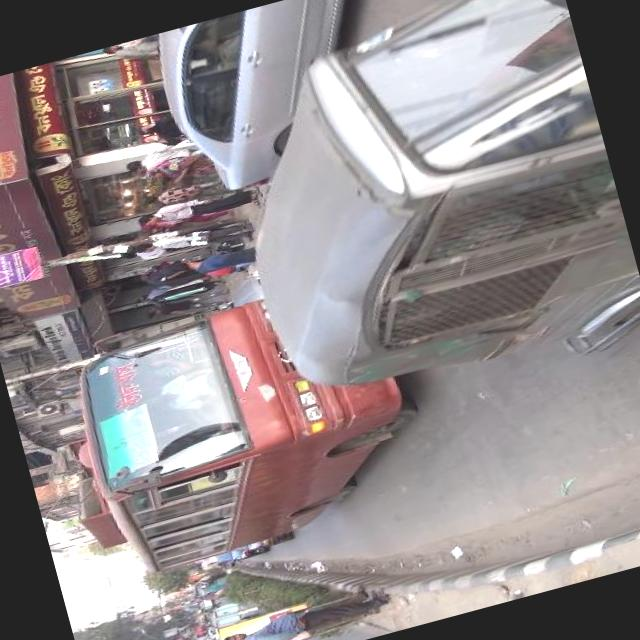bus: (30, 297, 328, 589)
car: (140, 0, 381, 210)
motorcycle: (187, 0, 640, 434)
